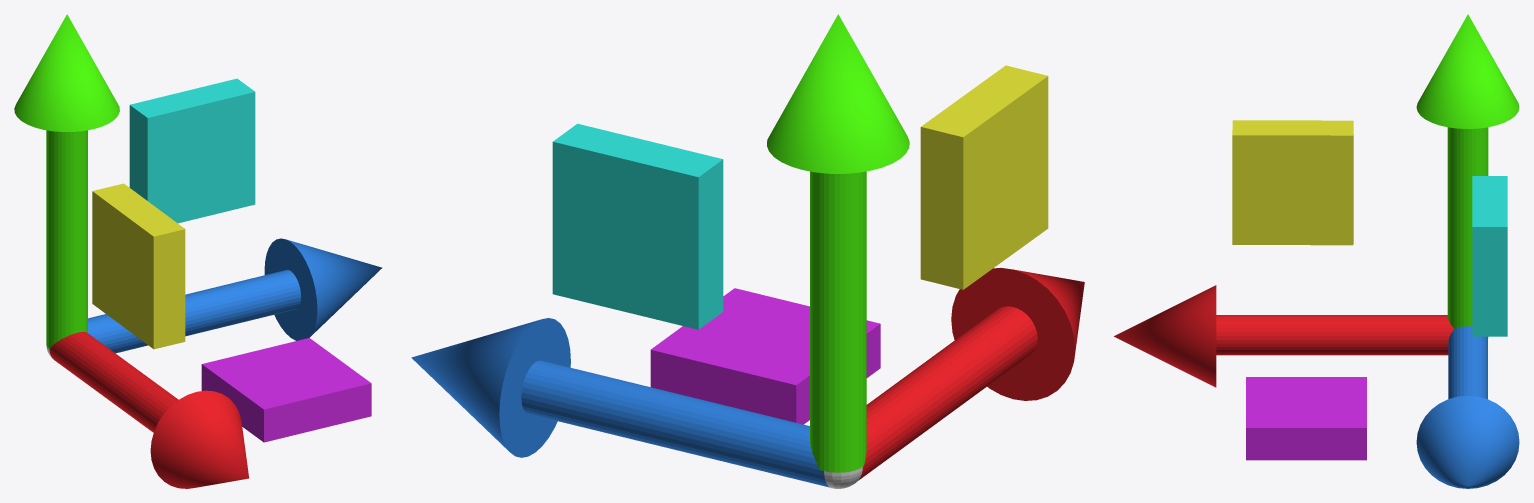
The model's file is tgizmo.glb.
The picture shows the model from 3 angles, left to right: view 1: azimuth 30°, elevation 25°; view 2: azimuth 150°, elevation 25°; view 3: azimuth 270°, elevation 25°; orthographic projection. The views are drawn at different scales.
Parts seen in each view (by area): view 1: y, xy, z, yz, x, zx; view 2: y, xy, x, yz, z, zx; view 3: yz, z, y, x, zx, xy.
Boxes of the visible parts, x1=… form: y: x1=14, y1=14, x2=119, y2=348; xy: x1=129, y1=78, x2=255, y2=223; z: x1=49, y1=332, x2=249, y2=488; yz: x1=92, y1=183, x2=185, y2=349; x: x1=87, y1=238, x2=382, y2=353; zx: x1=201, y1=338, x2=371, y2=442; y: x1=767, y1=14, x2=909, y2=472; xy: x1=552, y1=123, x2=723, y2=329; x: x1=411, y1=318, x2=829, y2=487; yz: x1=920, y1=65, x2=1048, y2=289; z: x1=858, y1=268, x2=1084, y2=480; zx: x1=650, y1=288, x2=880, y2=424; yz: x1=1232, y1=120, x2=1353, y2=245; z: x1=1114, y1=285, x2=1453, y2=387; y: x1=1416, y1=14, x2=1519, y2=328; x: x1=1416, y1=326, x2=1519, y2=488; zx: x1=1246, y1=377, x2=1366, y2=460; xy: x1=1472, y1=176, x2=1507, y2=336.
Size of the model in its own units: 3.22 by 3.23 by 3.22.
